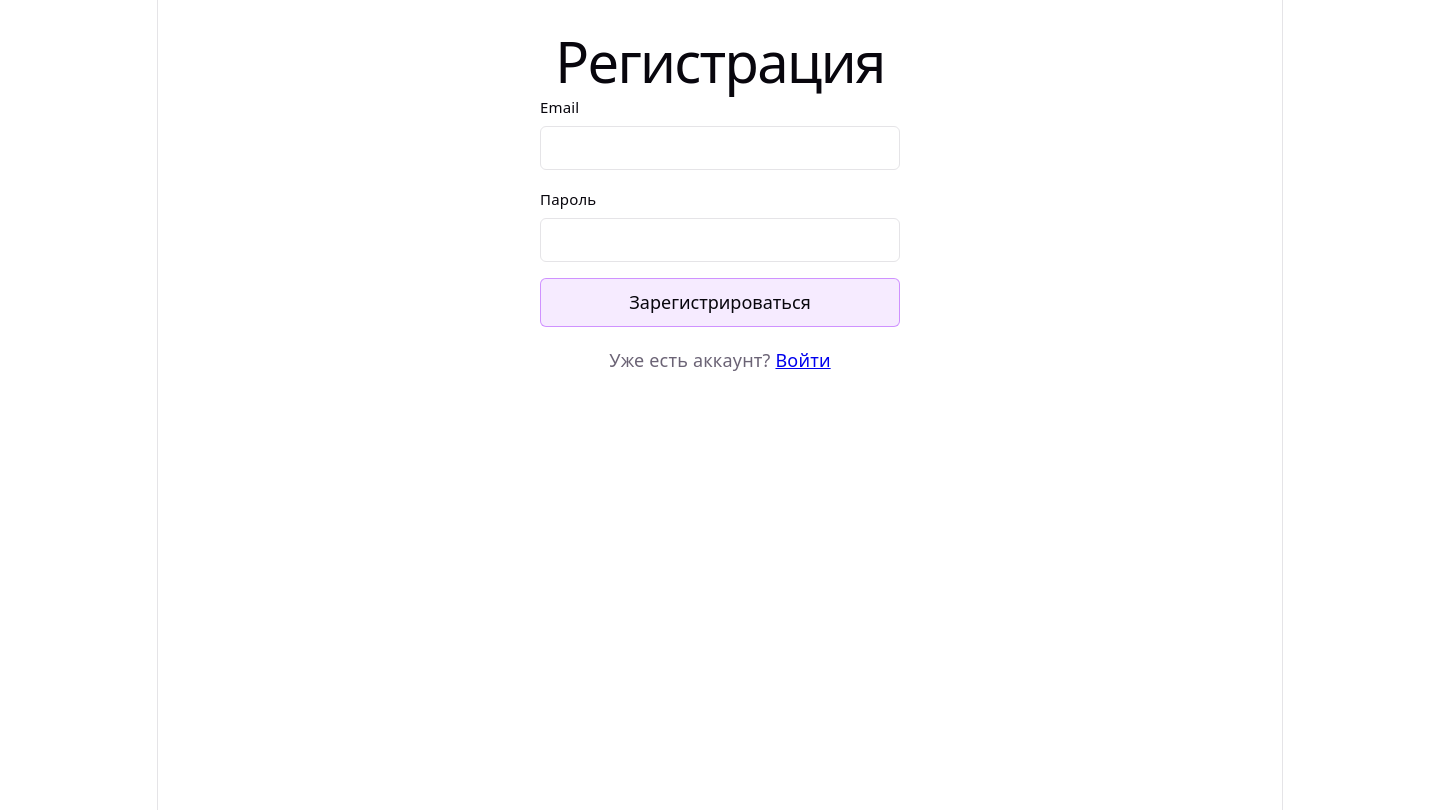
RegisterPage › показывает сообщение о занятом email при 409 и не показывает успех
Type "user@example.com" into the field labelled "Email".
click(720, 148); type("user@example.com")  # box [540,126,900,170]
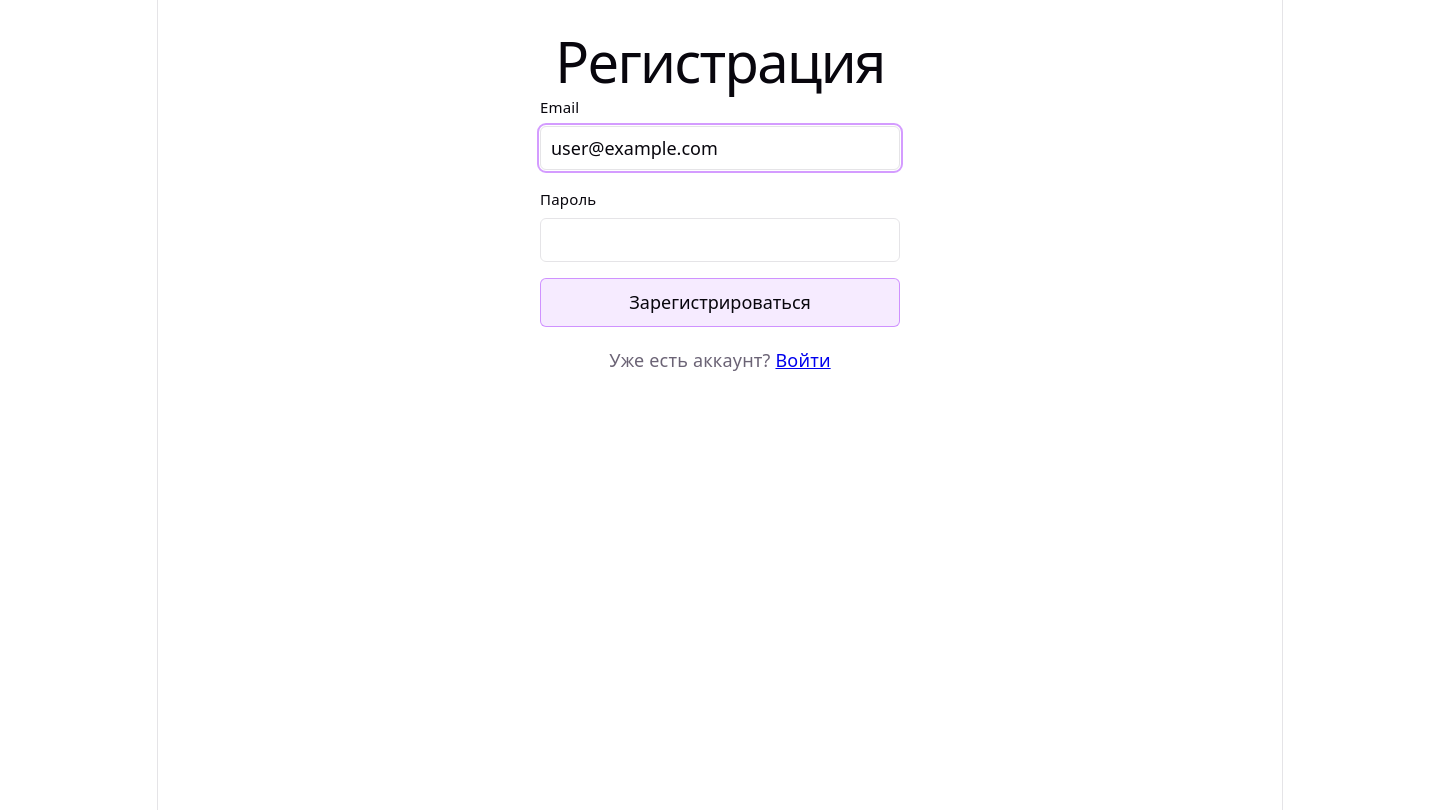
Type "secret123" into the password field labelled "Пароль".
click(720, 240); type("secret123")  # box [540,218,900,262]
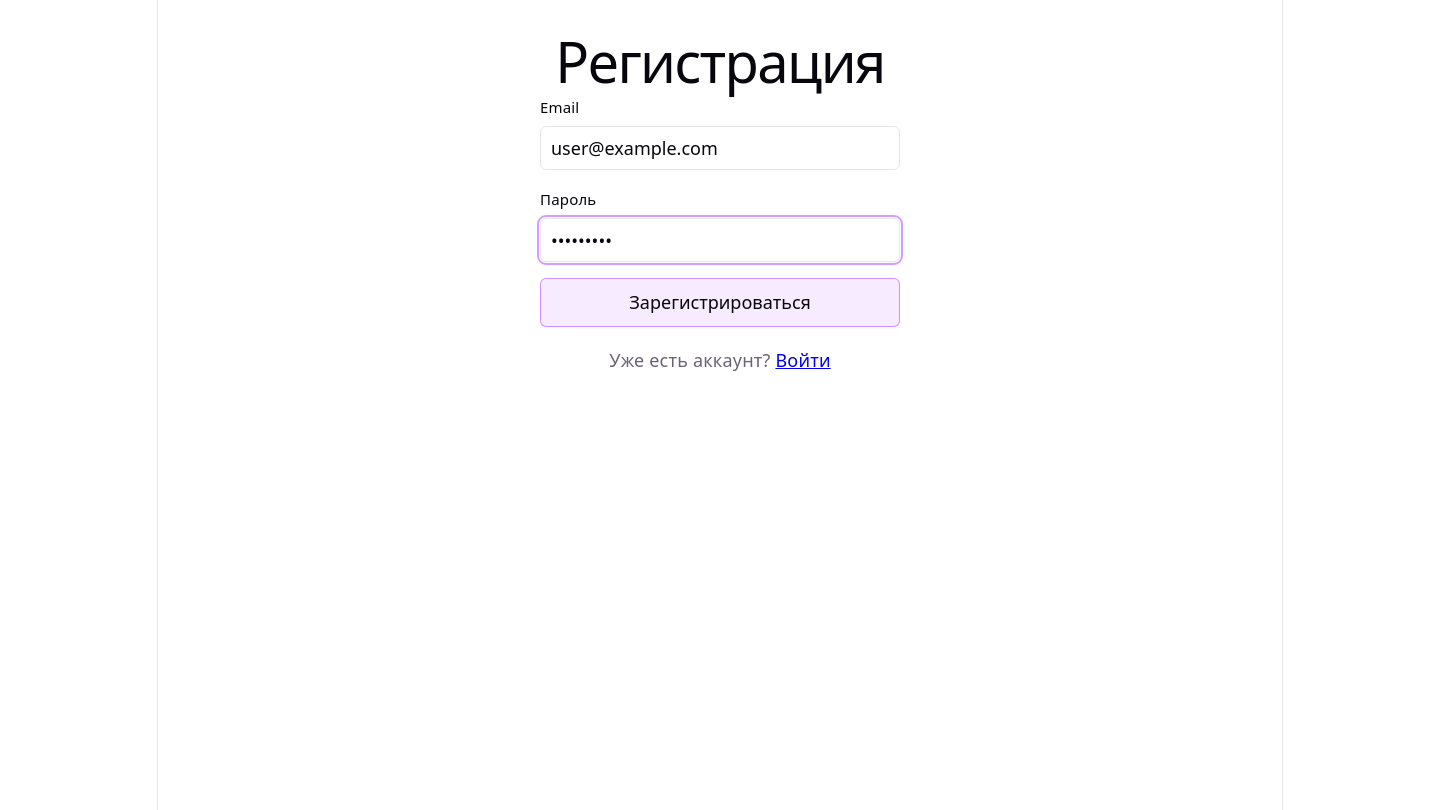
Click the button "Зарегистрироваться".
click(720, 303)  # box [540,278,900,327]
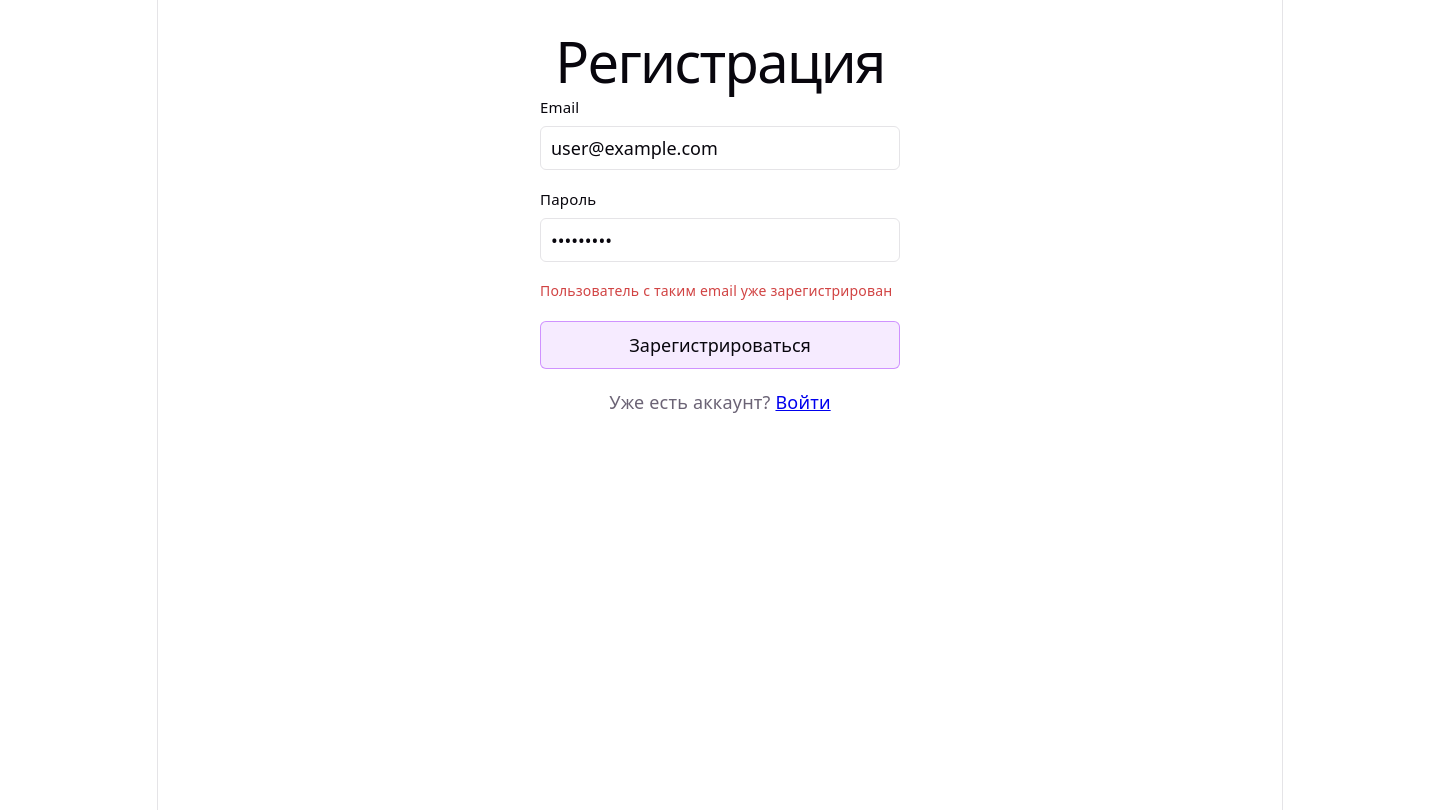
Now the message reads "Пользователь с таким email уже зарегистрирован", box [540,282,892,300]
